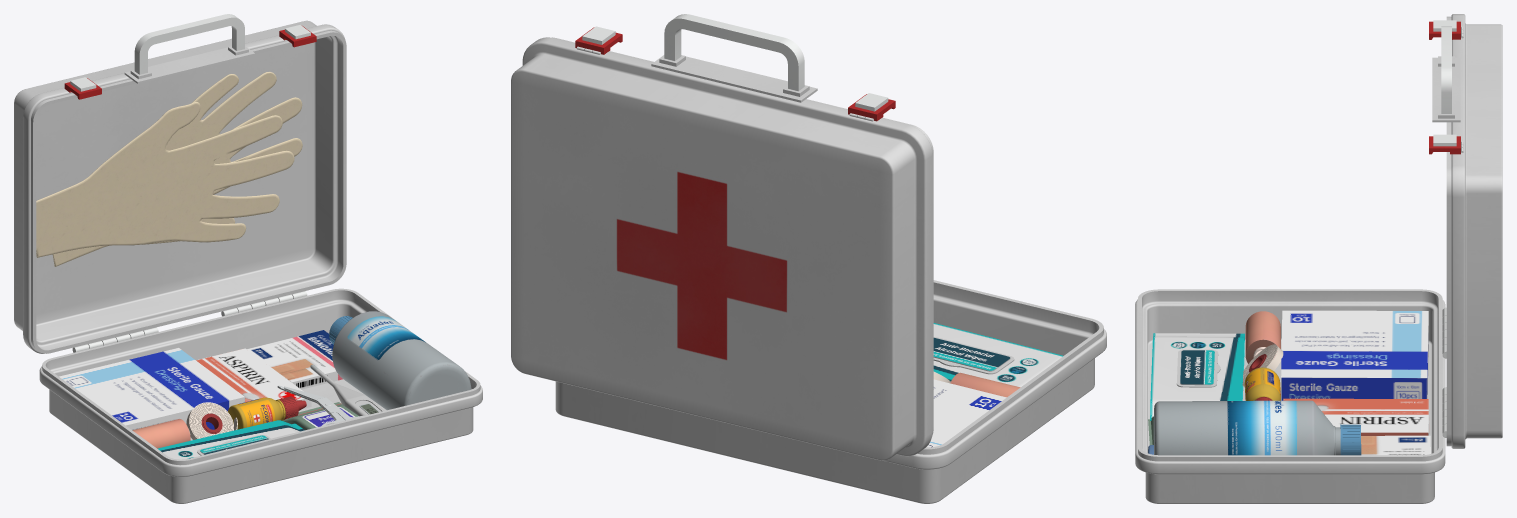
Rendered from medkit case (filled).fbx.
3 renders of one model, left to right at view 1: azimuth 30°, elevation 25°; view 2: azimuth 150°, elevation 25°; view 3: azimuth 270°, elevation 25°, orthographic. The views are drawn at different scales.
Parts seen in each view (by area): view 1: case top.005, case bottom.006, glove.011, bottle.004, kotak kasa.004, glove.010, kotak perban.004, kotak aspirin.004, opener.018, alcohol wipe.007, opener.019, ecodine bottle.004 (+8 smaller); view 2: case top.005, case bottom.006, opener.018, alcohol wipe.007, kotak kasa.004, opener.019, Plane.019, opener.016, roll.005, opener.017; view 3: case bottom.006, case top.005, kotak kasa.004, bottle.004, alcohol wipe.007, kotak aspirin.004, tutup kotak.012, Plane.019, kotak perban.004, roll.005, opener.019, opener.018 (+6 smaller).
Boxes of the visible parts, x1,y1,x2,y2 form: case top.005: (14,20,346,353); case bottom.006: (39,288,482,503); glove.011: (36,102,294,257); bottle.004: (332,311,471,410); kotak kasa.004: (59,348,244,438); glove.010: (52,71,302,266); kotak perban.004: (247,330,342,389); kotak aspirin.004: (196,348,311,409); opener.018: (130,14,248,79); alcohol wipe.007: (158,420,304,459); opener.019: (124,46,255,83); ecodine bottle.004: (228,397,285,429); case top.005: (511,37,933,460); case bottom.006: (555,280,1106,503); opener.018: (659,14,809,96); alcohol wipe.007: (933,323,1062,387); kotak kasa.004: (926,379,1006,447); opener.019: (651,55,817,102); Plane.019: (933,337,1014,374); opener.016: (575,27,895,121); roll.005: (950,372,1020,397); opener.017: (582,26,888,111); case bottom.006: (1135,289,1445,503); case top.005: (1446,14,1502,448); kotak kasa.004: (1281,310,1428,400); bottle.004: (1153,400,1340,455); alcohol wipe.007: (1150,333,1244,420); kotak aspirin.004: (1283,398,1428,435); tutup kotak.012: (1281,377,1426,400); Plane.019: (1176,349,1220,387); kotak perban.004: (1361,435,1430,455); roll.005: (1245,311,1280,363); opener.019: (1432,57,1460,122); opener.018: (1438,26,1454,118).
Size of the model in its own units: 0.3168 by 0.3275 by 0.29.
